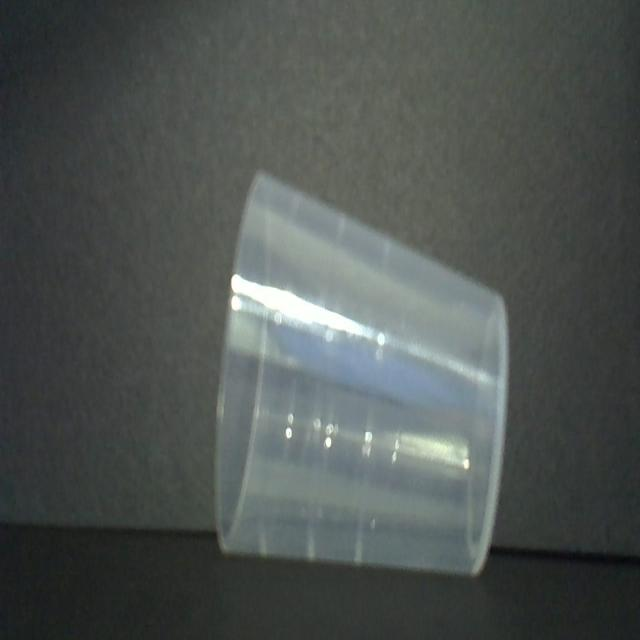cup: (208, 169, 515, 592)
